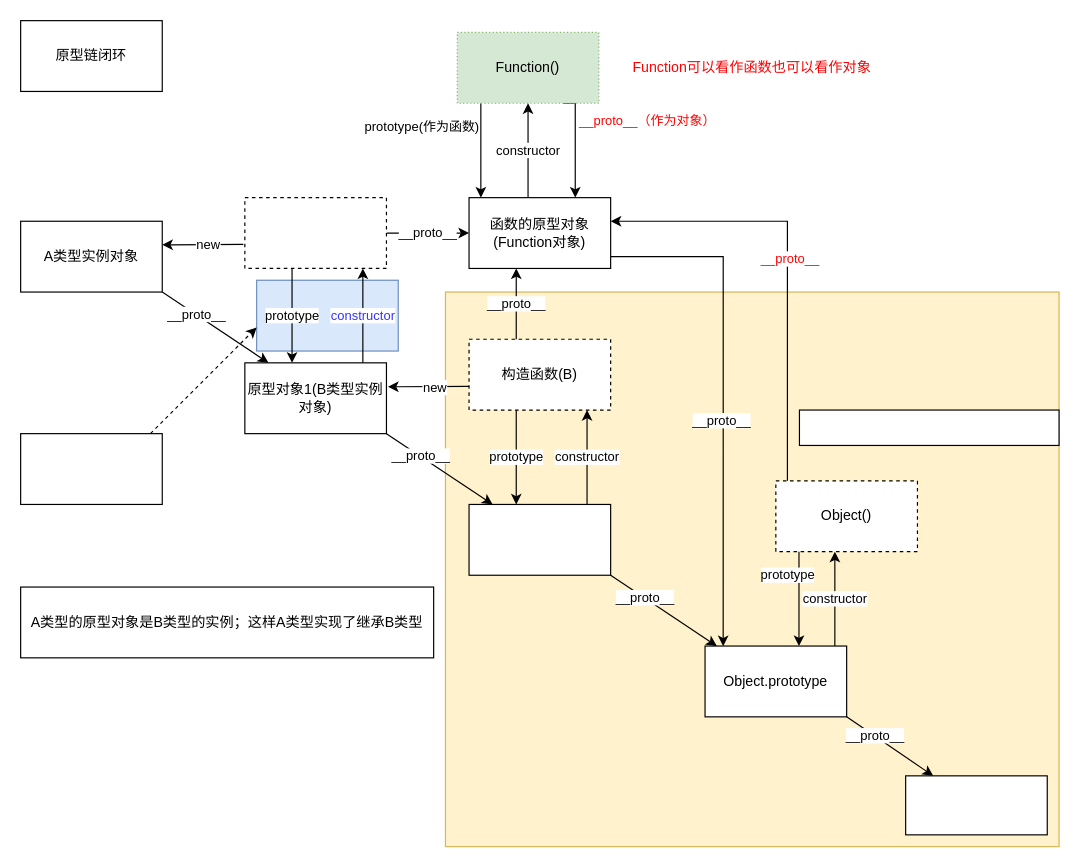
The diagram is 1080 pixels wide and 867 high, and some of its shapes have lost their labels. The centre of each missing label's shape, as x and y in pixels:
"null" belongs at point (975, 805).
"Object对象的原型链 ： 无论是原型链多长，最后总是这个部分" belongs at point (928, 427).
"原型对象2(默认为Object对象)" belongs at point (539, 539).
"构造函数(A)" belongs at point (315, 232).
"这一块手动添加；默认新加的原型对象中没有constructor属性" belongs at point (90, 468).
